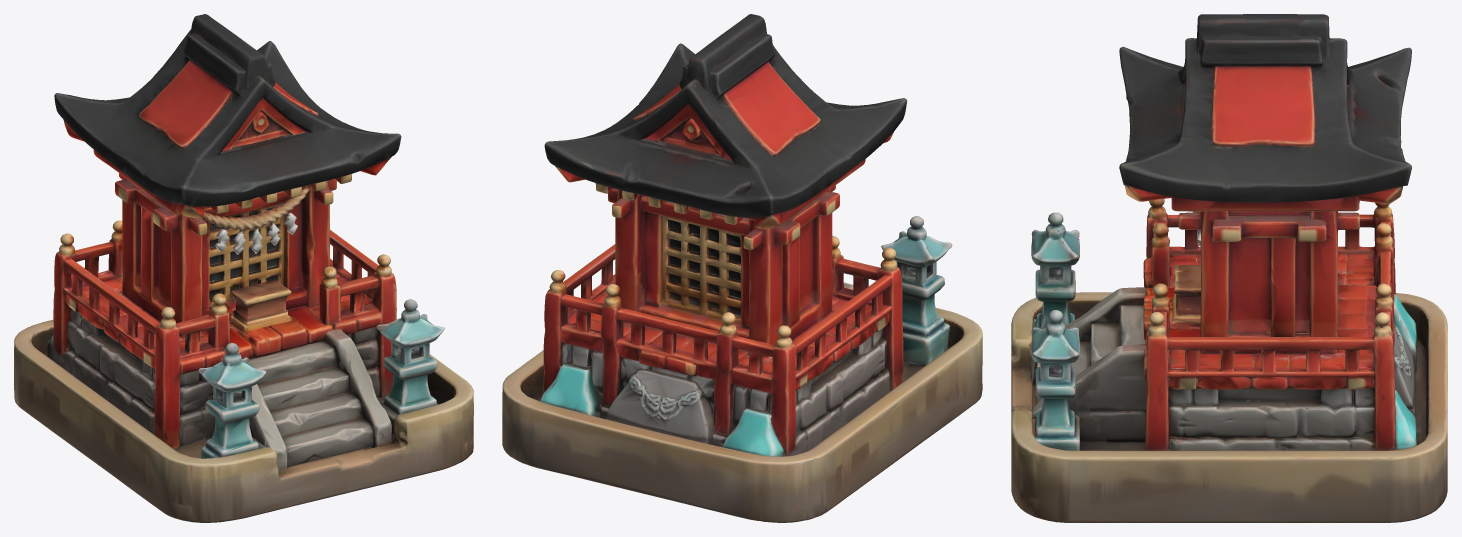
Rendered from Shrine.glb.
The picture shows the model from 3 angles, left to right: view 1: azimuth 30°, elevation 25°; view 2: azimuth 150°, elevation 25°; view 3: azimuth 270°, elevation 25°; orthographic projection. The views are drawn at different scales.
Visible parts, largest first — view 1: Shrine; view 2: Shrine; view 3: Shrine.
Boxes of the visible parts, bbox=[...] form: Shrine: bbox=[14, 14, 473, 522]; Shrine: bbox=[502, 14, 982, 522]; Shrine: bbox=[1011, 14, 1447, 522].
Size of the model in its own units: 1.69 by 2 by 1.86.
1 material, 1 textured.
